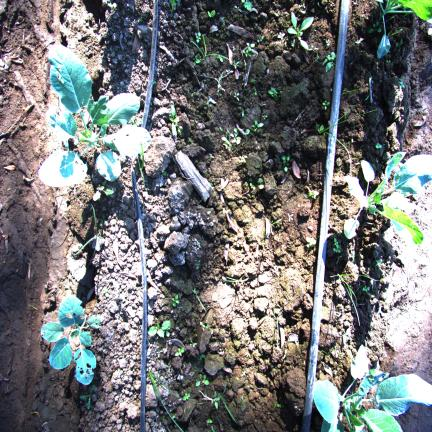crop: (47, 45, 151, 158), (313, 345, 432, 432), (345, 152, 423, 244), (41, 297, 96, 385), (377, 0, 432, 59), (38, 150, 86, 187), (394, 155, 432, 196), (95, 150, 121, 181), (344, 218, 358, 238)
